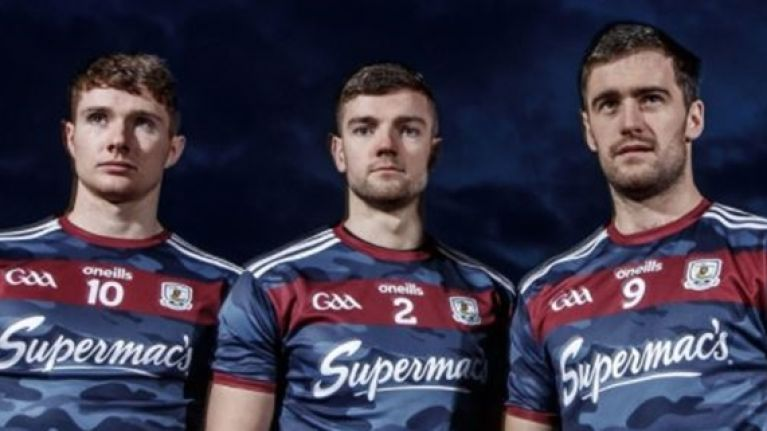player: (524, 13, 764, 428), (265, 55, 501, 428), (19, 35, 233, 428)
